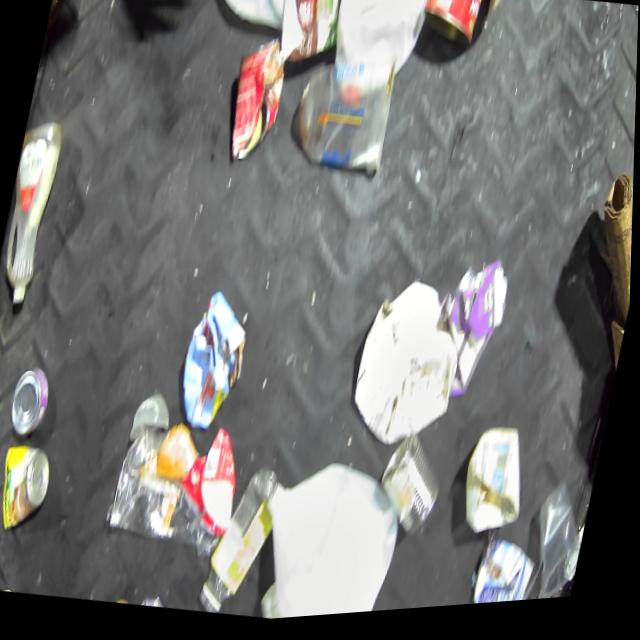can: (220, 34, 291, 168), (374, 433, 449, 540), (0, 442, 54, 531), (5, 363, 58, 445), (415, 0, 484, 53)
milk_jug: (255, 452, 414, 624), (323, 0, 427, 94), (197, 0, 290, 44)
plastic_bottle: (198, 456, 290, 623), (0, 115, 69, 300)
